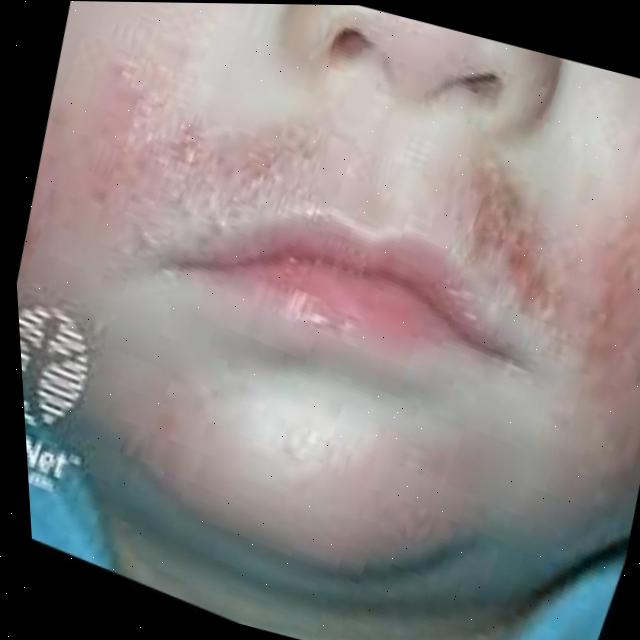Eczema: (22, 18, 326, 262)
